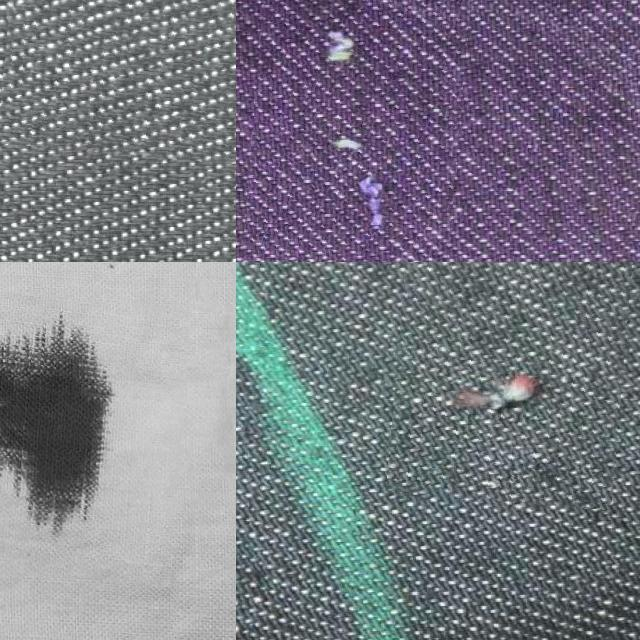Hole: (0, 294, 187, 582)
Thread_other: (245, 0, 465, 262), (391, 262, 628, 505), (3, 0, 236, 160)
